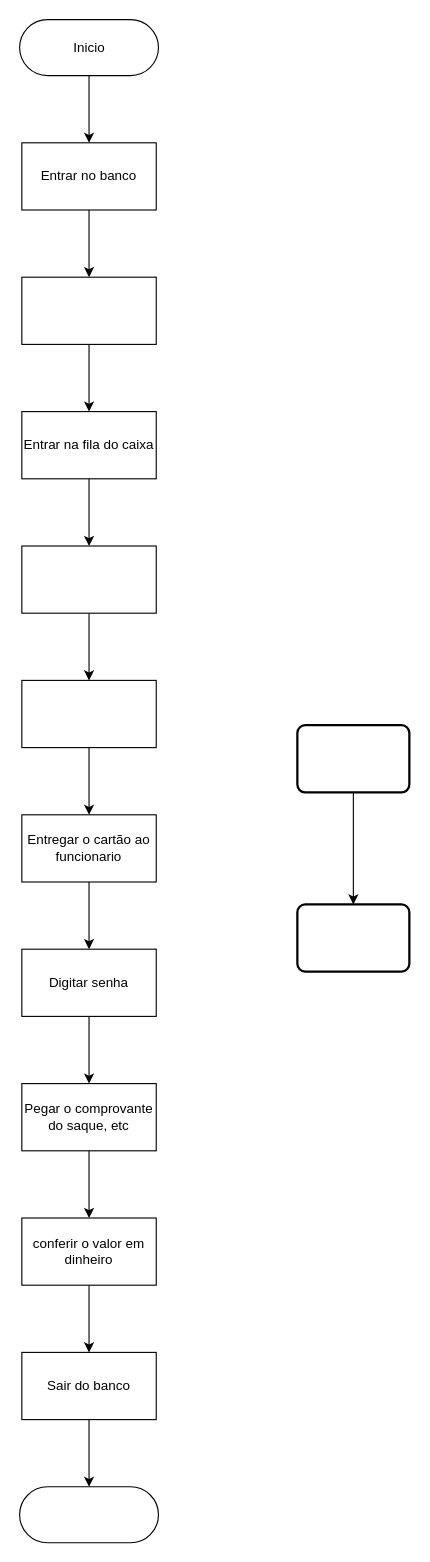
Image size: 430x1562. Some labels were removed from this diagram. The centre of each missing label's shape, as x and y in pixels:
Aguardar a vez de ser atendido: the point at 88,579
Fim: the point at 88,1514
Informar o valor a ser retirado: the point at 88,713
Procurar fila do caixa: the point at 88,310
